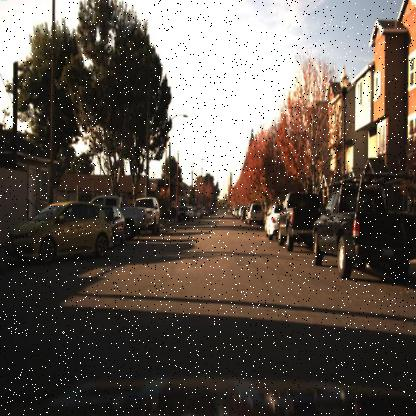car: (312, 173, 414, 288), (310, 173, 416, 278), (11, 194, 118, 274), (4, 198, 113, 262), (272, 185, 321, 256), (278, 188, 324, 254), (122, 195, 149, 241), (102, 203, 126, 250), (260, 192, 281, 244), (139, 193, 162, 238), (136, 194, 158, 237), (111, 204, 129, 249), (248, 199, 264, 226), (174, 202, 189, 223)
